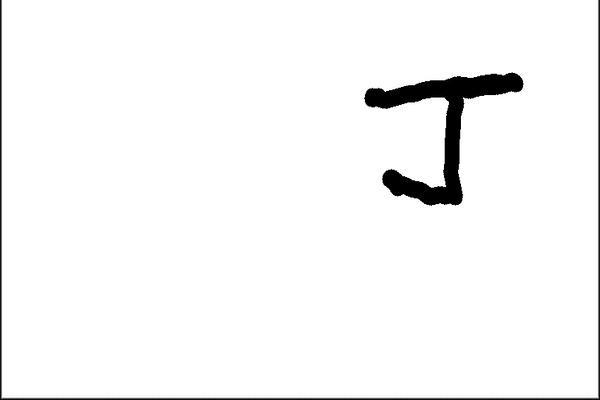J: (357, 65, 527, 222)
